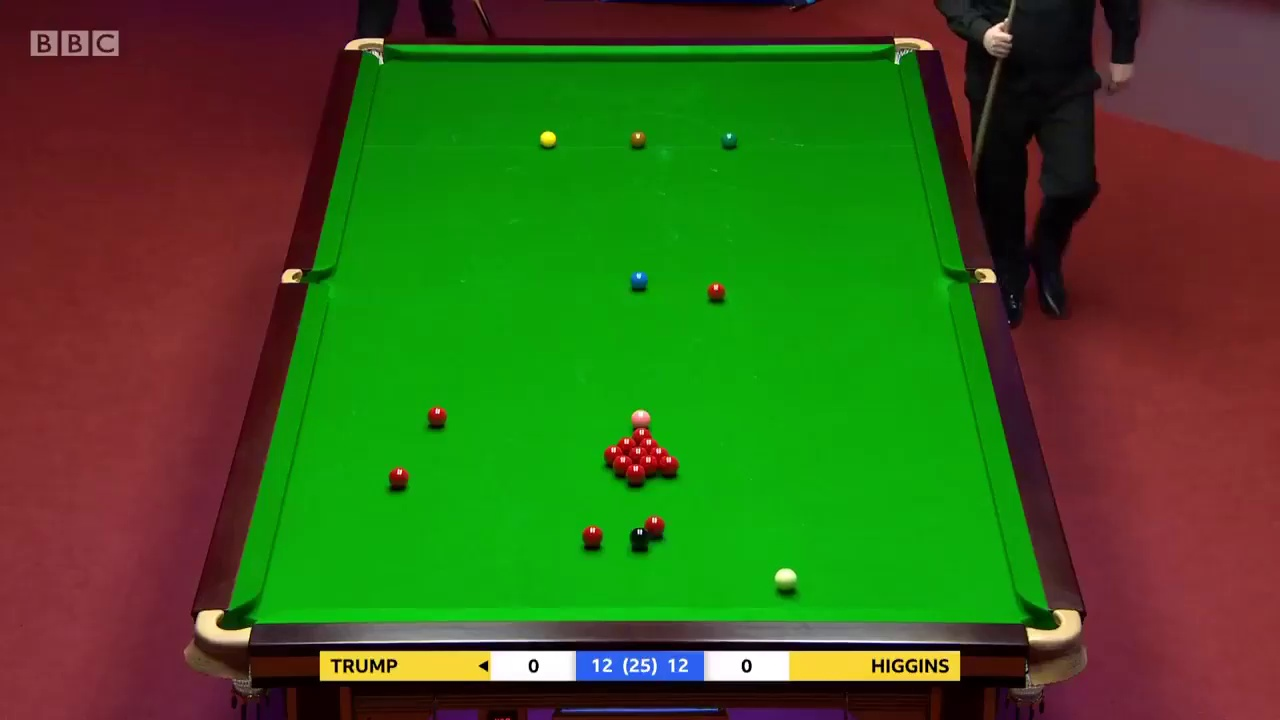black: (632, 528, 649, 552)
blue: (629, 272, 649, 291)
brown: (628, 131, 648, 147)
green: (721, 129, 737, 149)
pink: (633, 408, 651, 425)
red: (646, 513, 664, 537), (581, 526, 603, 544), (659, 457, 678, 477), (628, 464, 645, 486), (428, 404, 446, 424), (708, 281, 725, 301), (391, 467, 408, 487)
white: (776, 570, 797, 592)
yellow: (540, 129, 558, 147)
